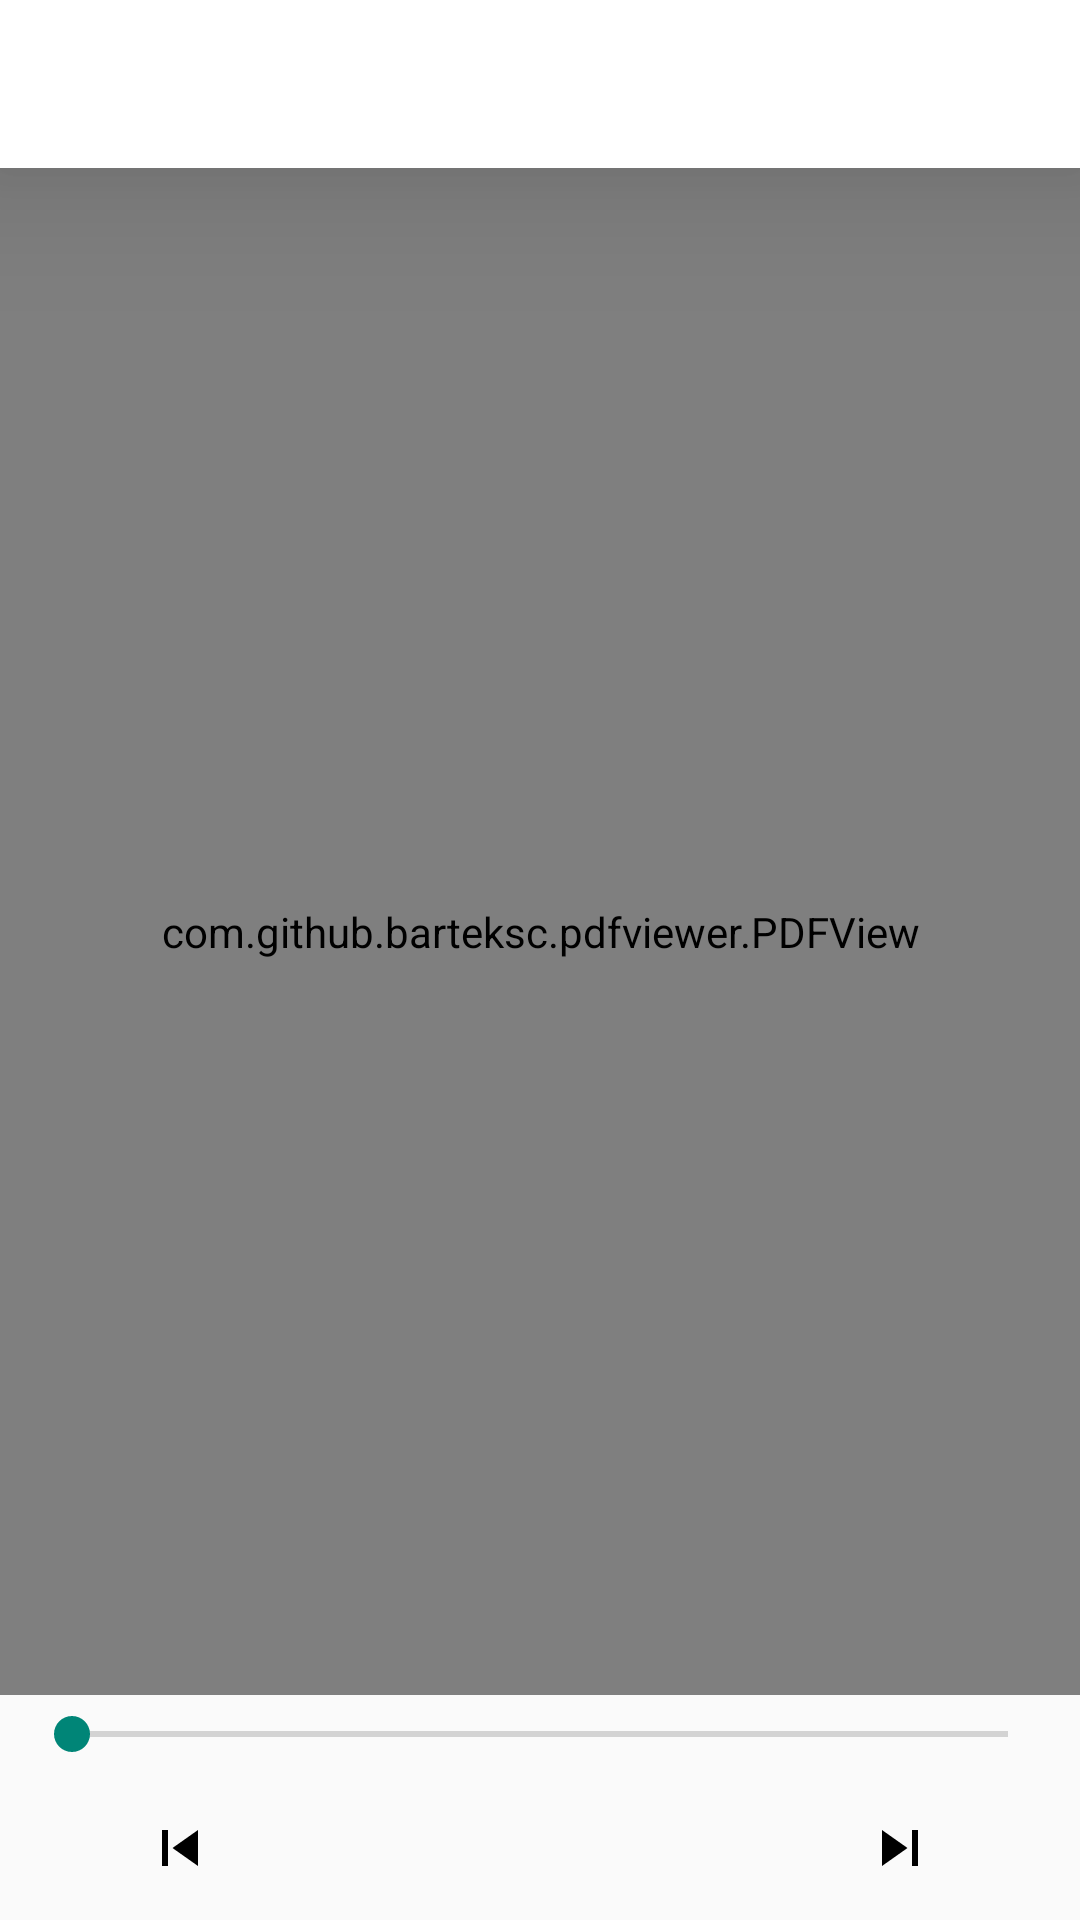

Where to tap for icons on this 1080px×1920px app screen, as (x,y):
skip next: (900,1848)
skip previous: (180,1848)
